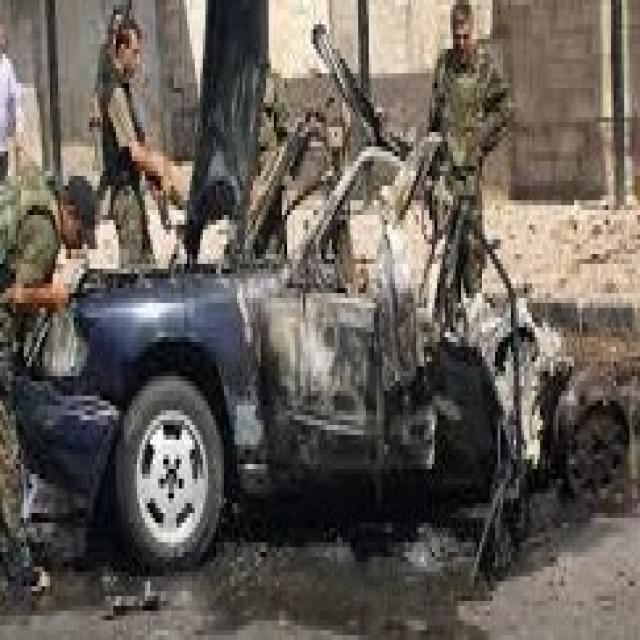severe: (28, 80, 620, 523)
